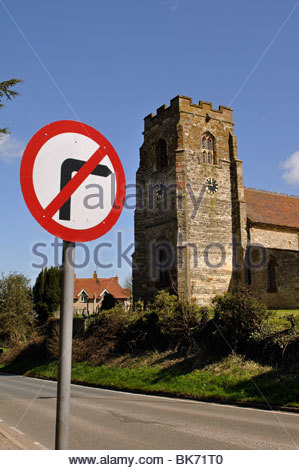No_right_turn: (19, 120, 126, 244)
